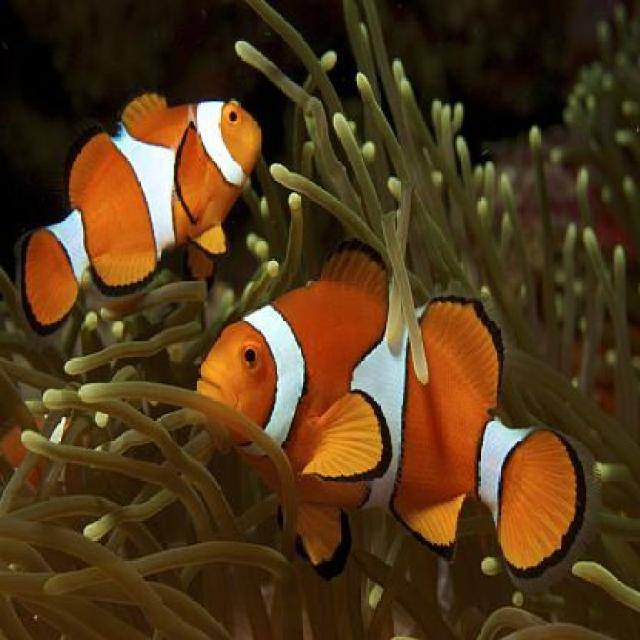ClownFish: (196, 237, 590, 580), (22, 91, 264, 329)
